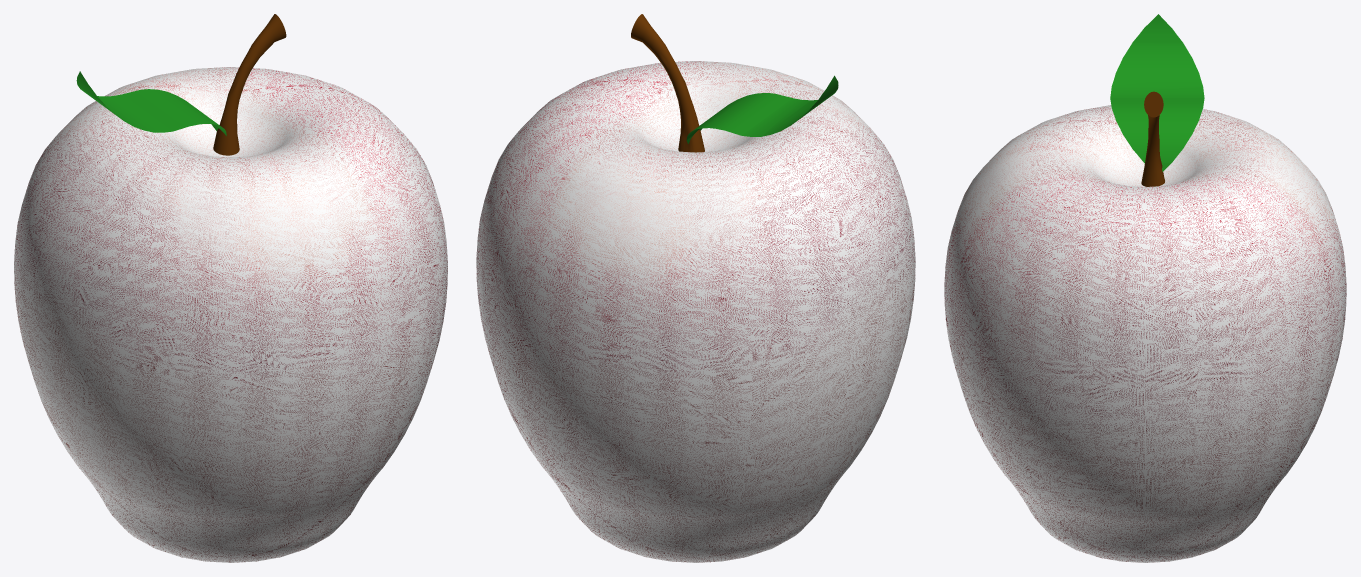
File: apple.dae
3 renders of one model, left to right at view 1: azimuth 30°, elevation 25°; view 2: azimuth 150°, elevation 25°; view 3: azimuth 270°, elevation 25°, orthographic. The views are drawn at different scales.
Parts seen in each view (by area): view 1: SketchUp, Component_3, Component_1; view 2: SketchUp, Component_3, Component_1; view 3: SketchUp, Component_3, Component_1.
Part boxes in pixels (x1,y1,x2,y2): SketchUp: [14, 67, 447, 562]; Component_3: [76, 71, 226, 135]; Component_1: [213, 14, 286, 155]; SketchUp: [476, 61, 915, 562]; Component_3: [686, 75, 838, 143]; Component_1: [631, 14, 704, 152]; SketchUp: [944, 105, 1346, 562]; Component_3: [1110, 14, 1204, 171]; Component_1: [1141, 91, 1164, 186].
Size of the model in its own units: 18.89 by 18.89 by 23.87.
4 materials, 1 textured.
